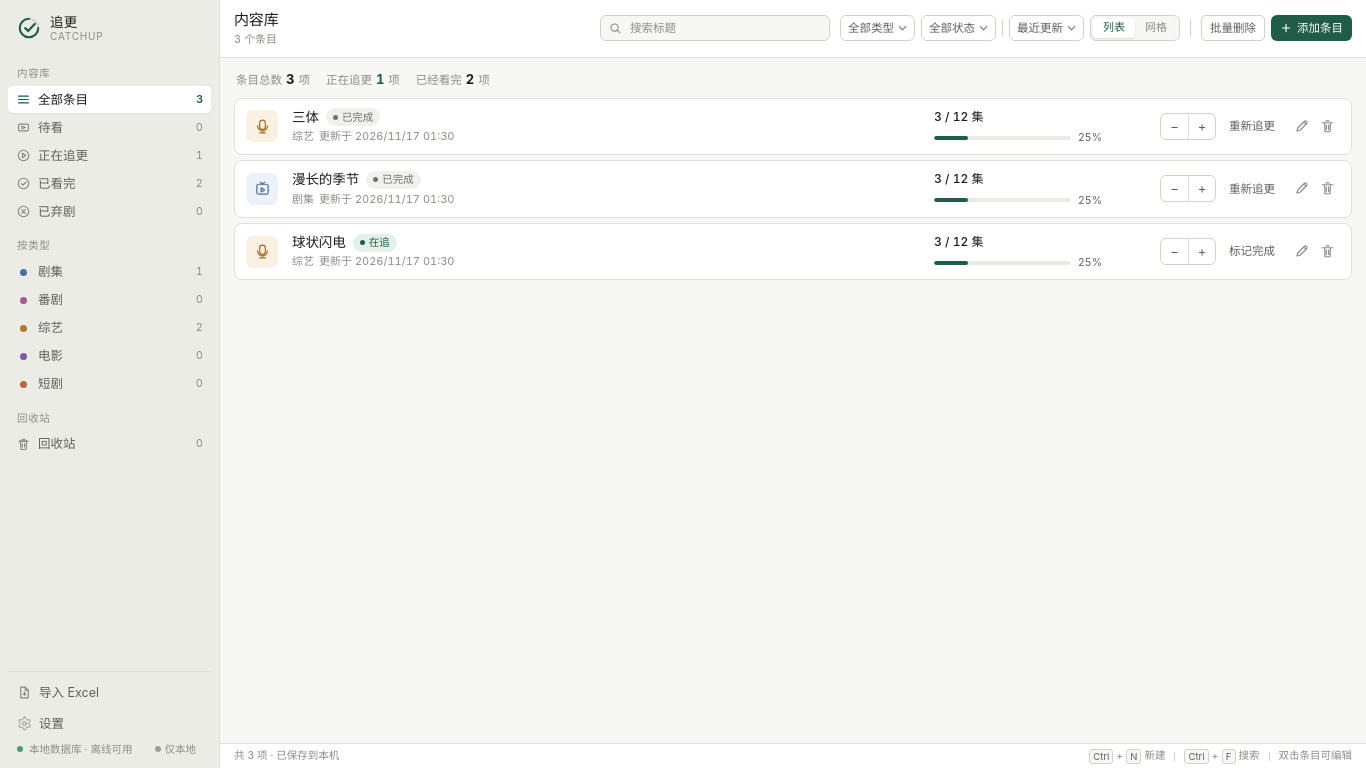
Scenario: 搜索与筛选 › 组合条件无结果时显示独立状态，保留整体摘要并可一键恢复
The image size is (1366, 768).
Expected: the element "三体" is shown, [234,98,1352,155]
Step 1. Select "综艺" in the 1st dropdown named "类型筛选" → point(878, 28), box [840,15,915,41]
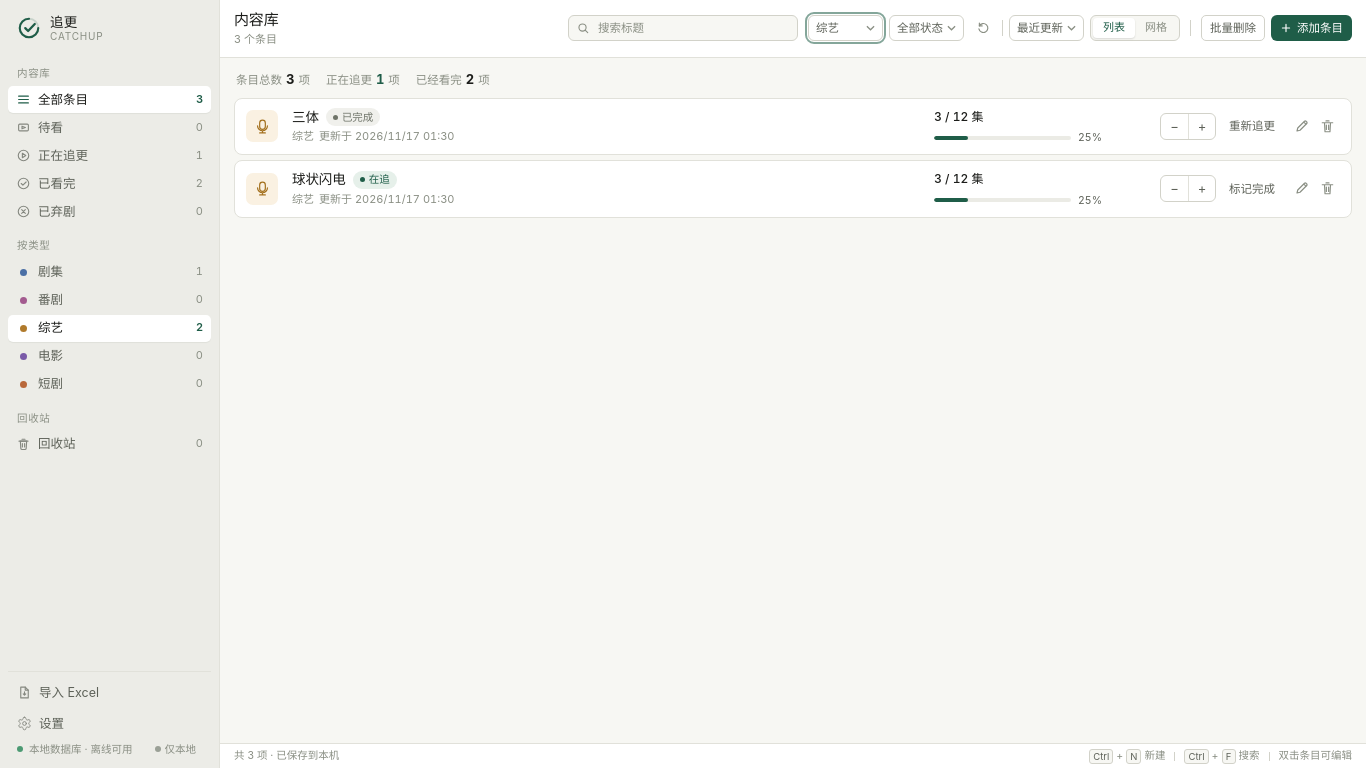
Step 2. Select "已完成" in the 2nd dropdown named "状态筛选" → point(926, 28), box [889,15,964,41]
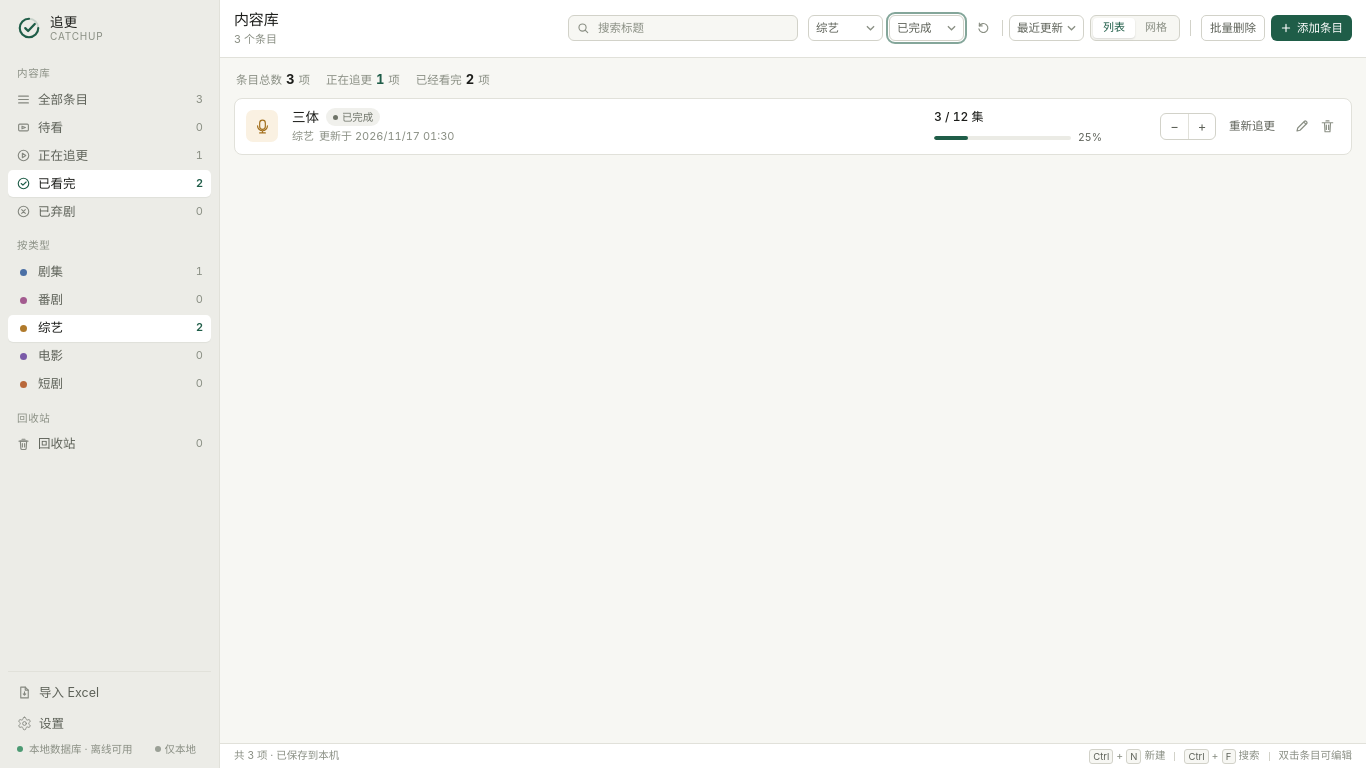
Step 3. Type "  没有这部作品  " into the search field labelled "搜索标题" → point(692, 28), box [596,19,789,38]
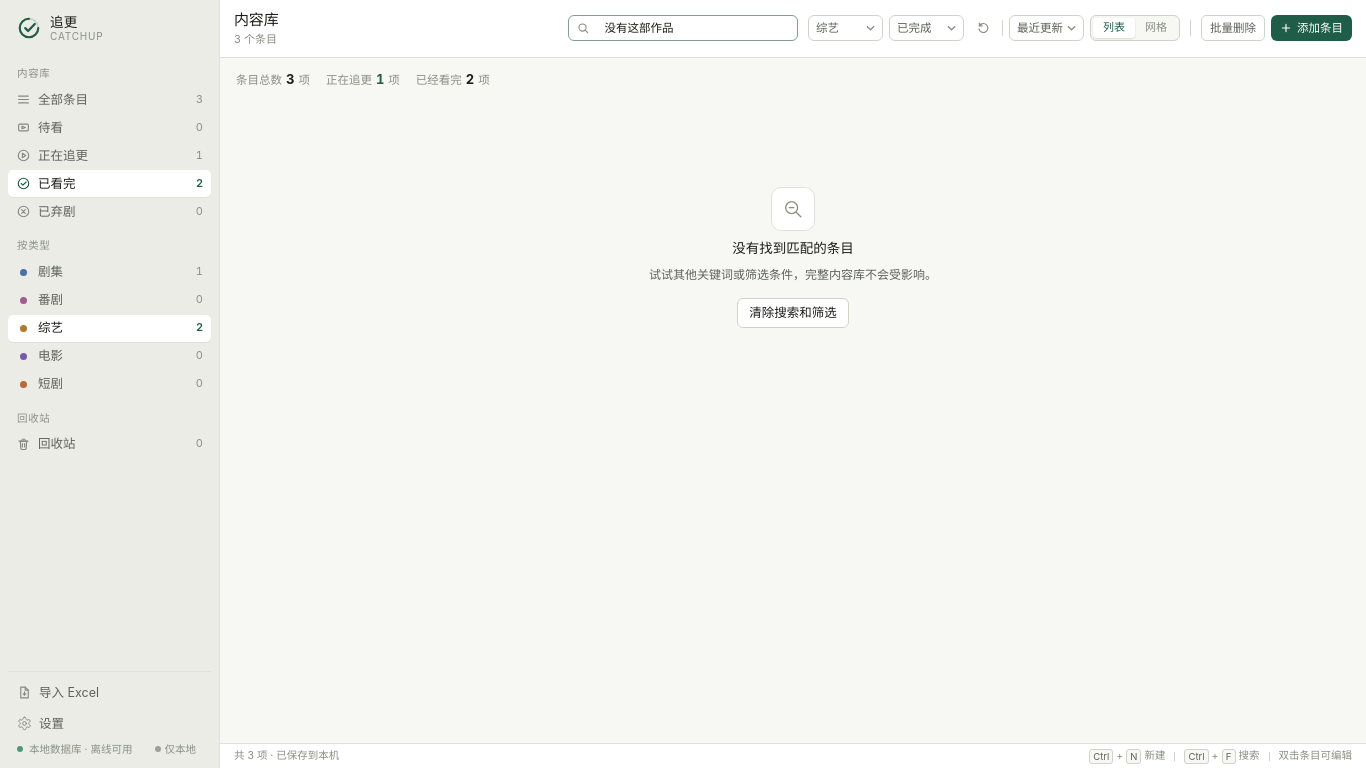
Now the heading "没有找到匹配的条目" is shown, box [732,239,854,259]
Now the list "追更内容列表" is gone
Step 4. Click the button named "重置搜索和筛选" → point(983, 28), box [970,15,996,41]
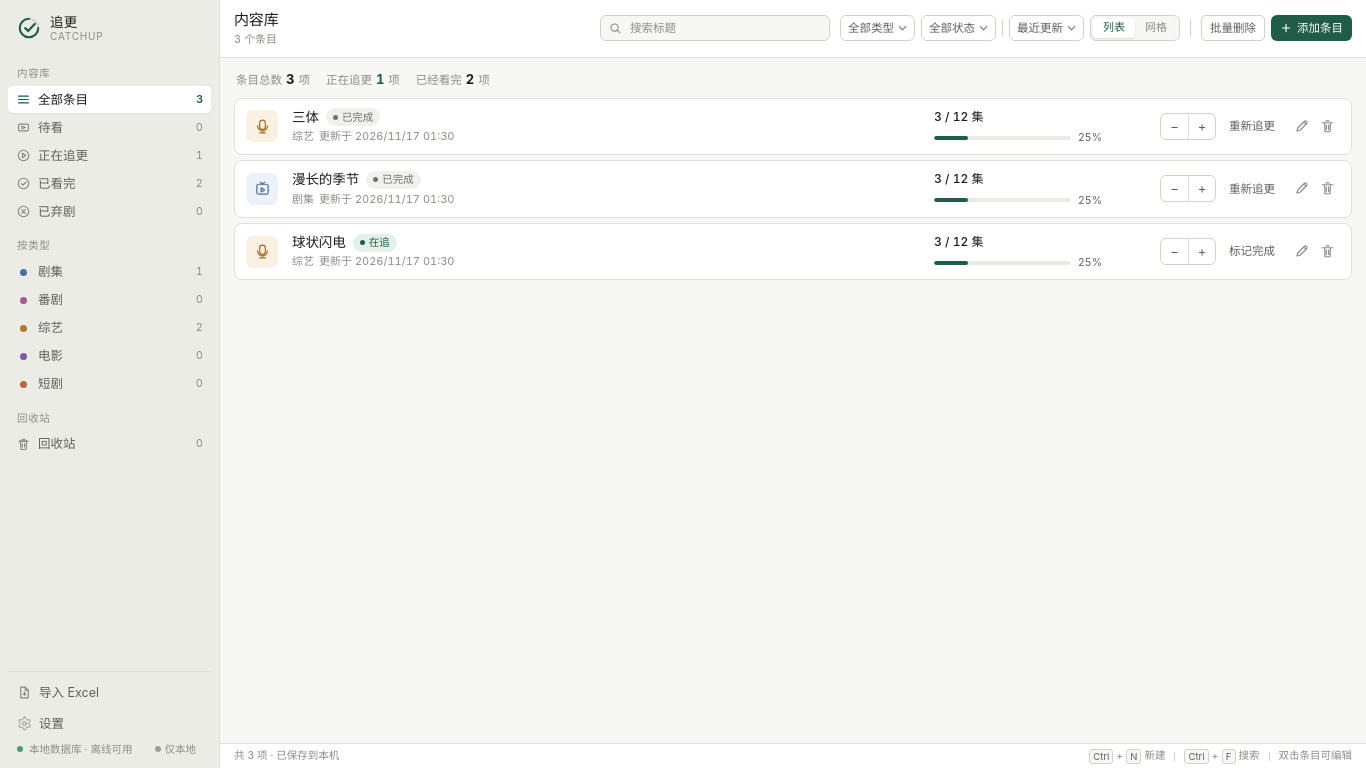
Now the search field labelled "搜索标题" is empty, box [628,19,821,38]
Now the heading "没有找到匹配的条目" is gone
